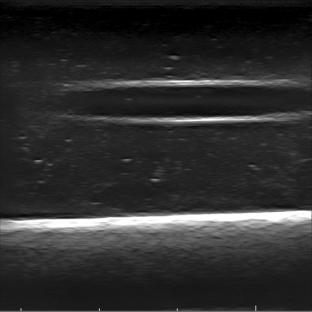vessel: (61, 77, 311, 126)
